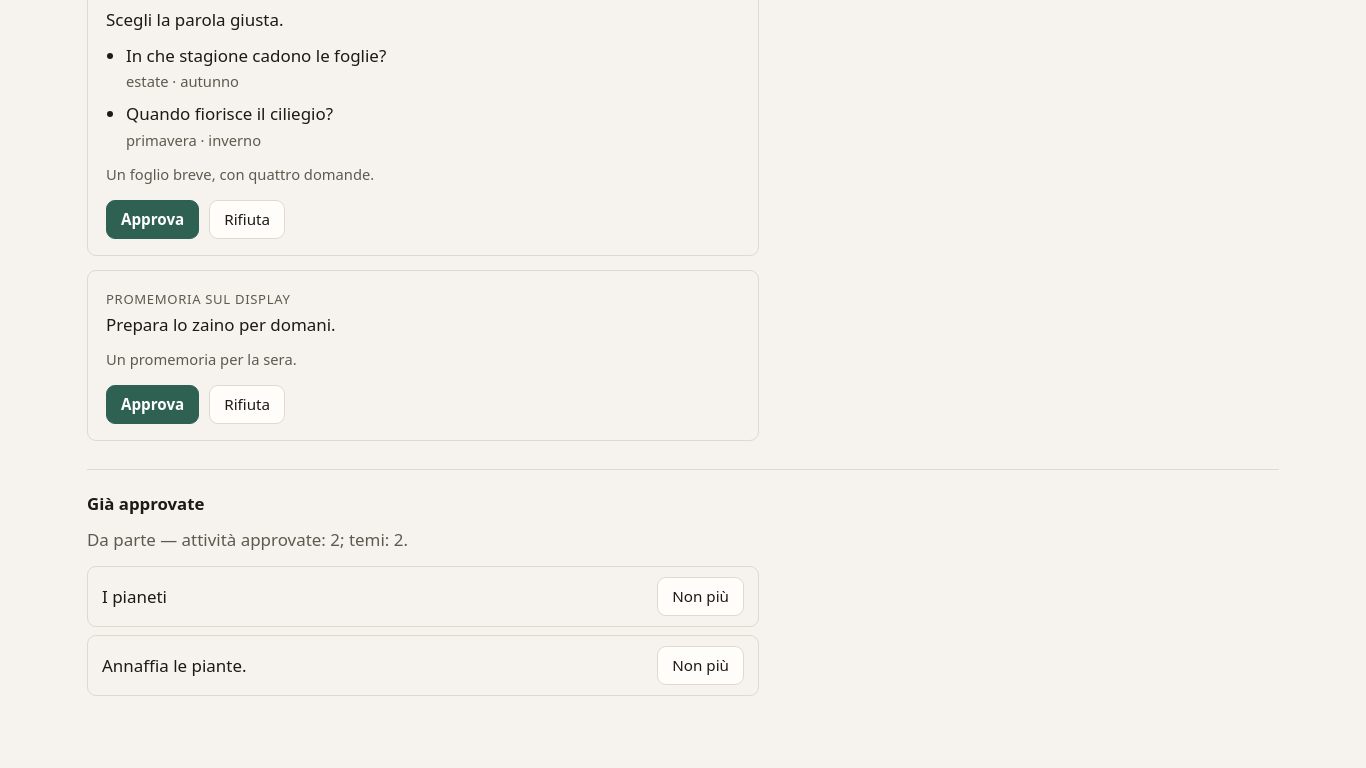
what is already approved › says so when the withdrawal does not get through, and keeps the item
The width and height of the screenshot is (1366, 768).
(page scrolled)
Expected: the text "Da parte — attività approvate: 2; temi: 2." is shown, [87,528,408,551]
Click the button "Non più" in the row of "I pianeti" at (701, 597), box [657,577,744,616]
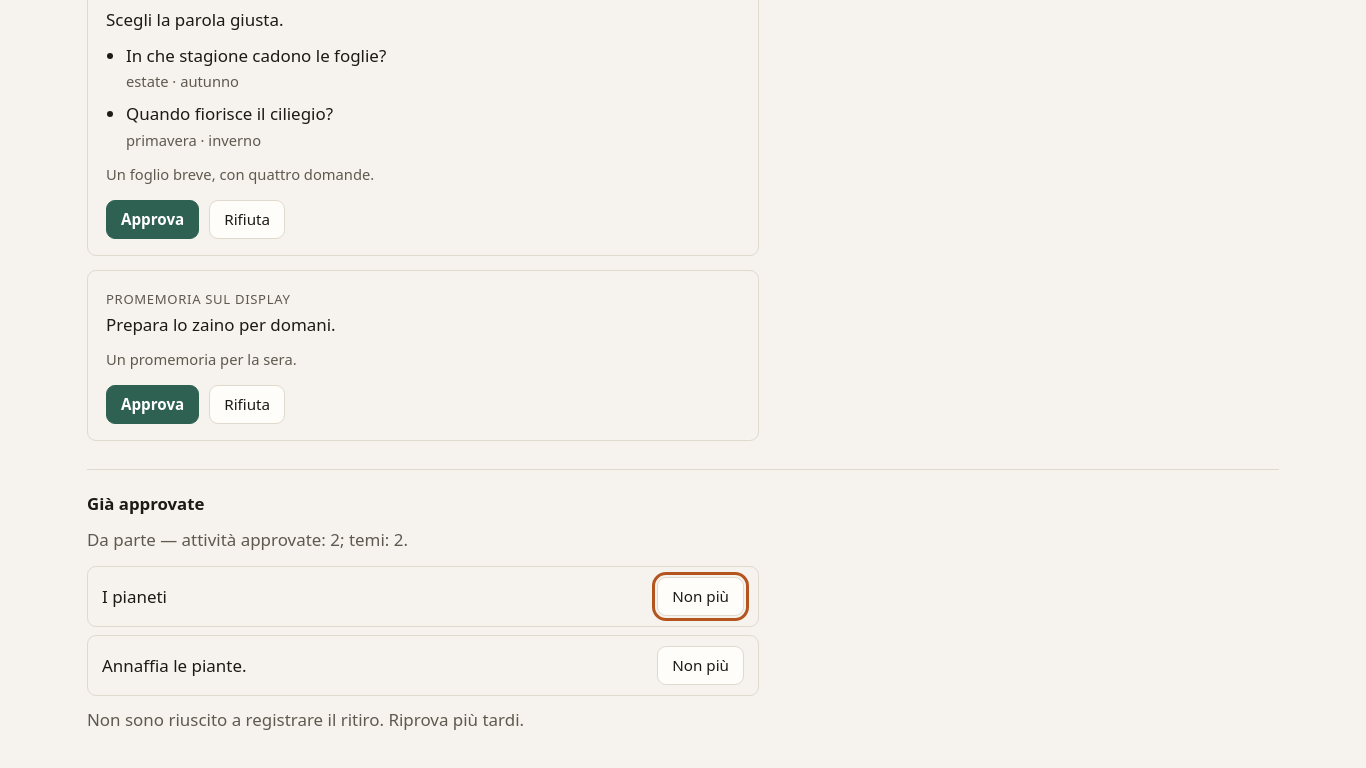
Expected: the text "Da parte — attività approvate: 2; temi: 2." is shown, [87,528,408,551]
Now the text "Non sono riuscito a registrare il ritiro. Riprova più tardi." is shown, box [87,708,524,731]
